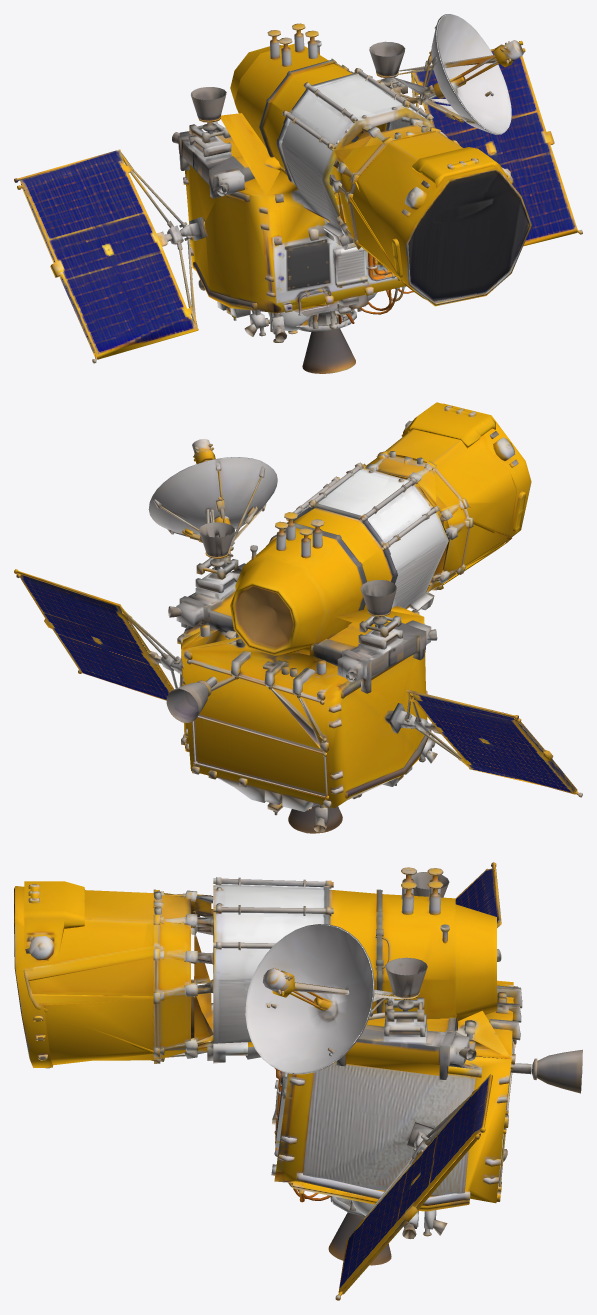
File: satelite_2.fbx
The picture shows the model from 3 angles, top to bottom: view 1: azimuth 30°, elevation 25°; view 2: azimuth 150°, elevation 25°; view 3: azimuth 270°, elevation 25°; orthographic projection. The views are drawn at different scales.
Visible parts, largest first — view 1: tripo_node_a01a77a2; view 2: tripo_node_a01a77a2; view 3: tripo_node_a01a77a2.
Part boxes in pixels (x1,y1,x2,y2): tripo_node_a01a77a2: [14, 14, 582, 373]; tripo_node_a01a77a2: [14, 402, 582, 833]; tripo_node_a01a77a2: [14, 862, 582, 1300].
Bounding box in the file's own units: 0.9995 × 0.6265 × 0.8345.
